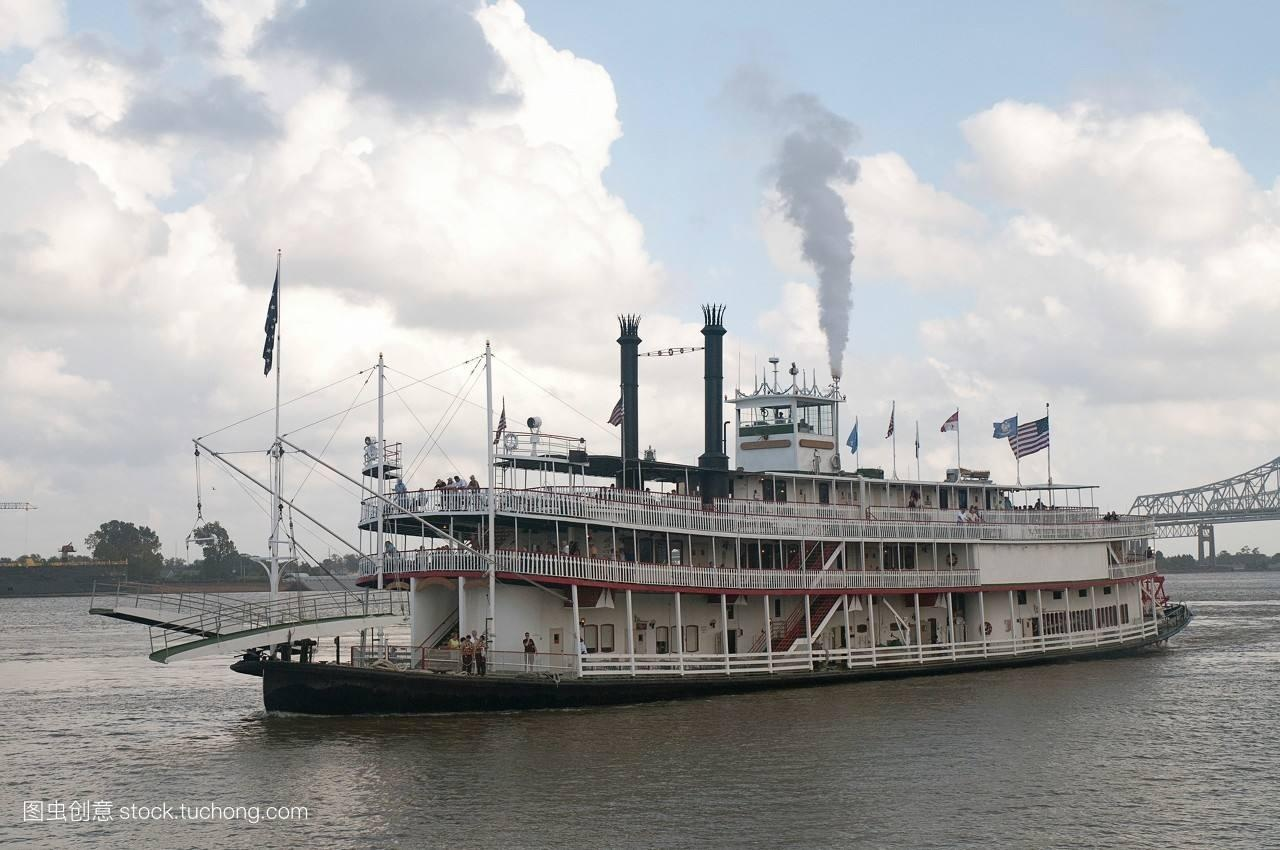youlun: (238, 298, 1200, 717)
